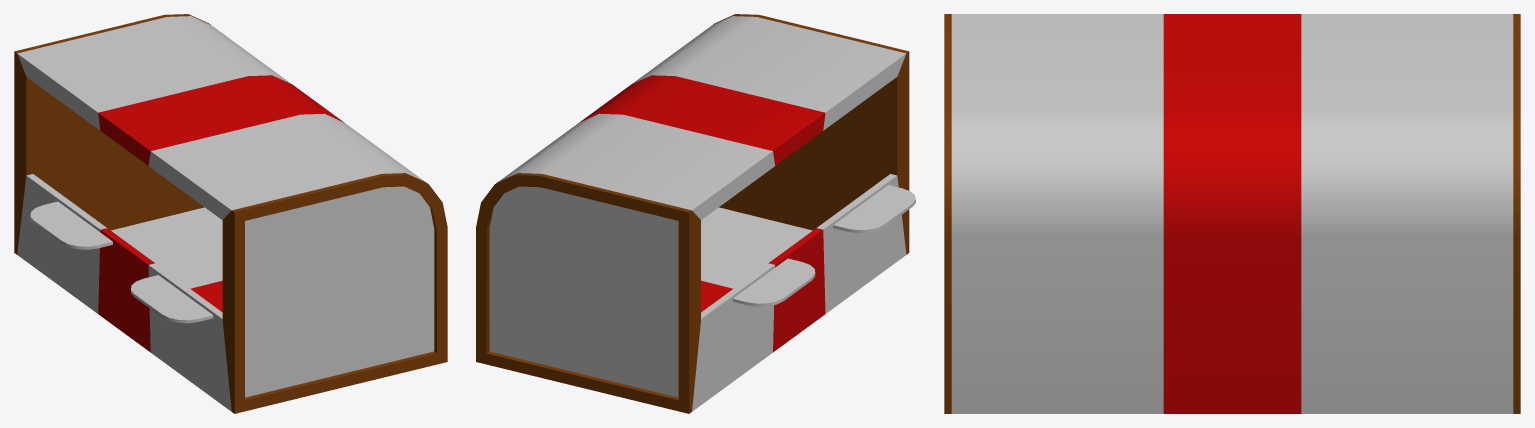
File: Shop.fbx
The picture shows the model from 3 angles, left to right: view 1: azimuth 30°, elevation 25°; view 2: azimuth 150°, elevation 25°; view 3: azimuth 270°, elevation 25°; orthographic projection. The views are drawn at different scales.
Visible parts, largest first — view 1: Shop; view 2: Shop; view 3: Shop.
Boxes of the visible parts, x1,y1,x2,y2 form: Shop: (14, 14, 447, 413); Shop: (476, 14, 915, 413); Shop: (944, 14, 1520, 413).
Bounding box in the file's own units: 186 × 143 × 282.
